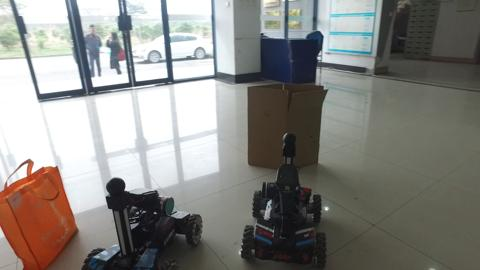bag: (1, 159, 79, 263)
box: (241, 79, 325, 163)
chariot: (234, 132, 335, 268), (72, 175, 208, 269)
